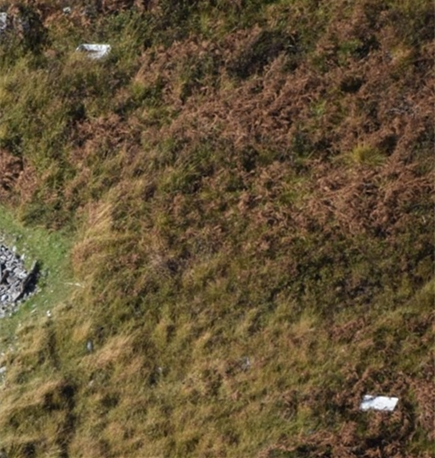white_in_green: (340, 366, 423, 434), (55, 17, 135, 81)
